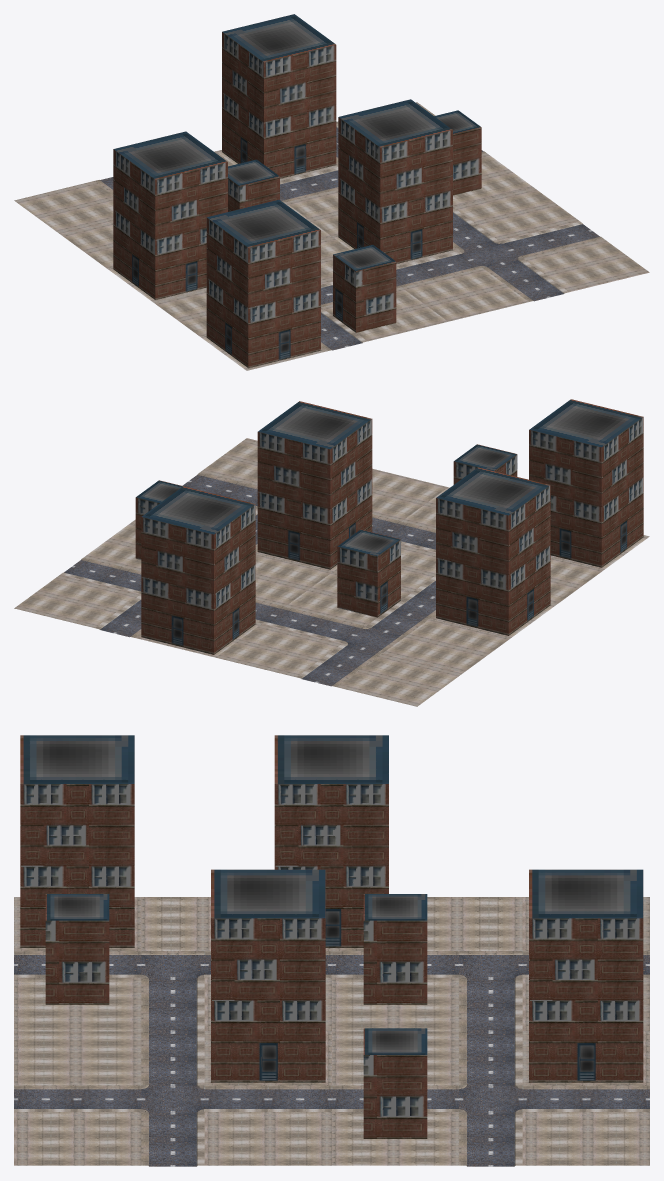
The model's file is StreetTile.002.fbx.
3 views of the same model, one above another, from view 1: azimuth 30°, elevation 25°; view 2: azimuth 150°, elevation 25°; view 3: azimuth 270°, elevation 25° (orthographic). The views are drawn at different scales.
Parts seen in each view (by area): view 1: Center.002, Outside.002, StraightRoad.002, CrossRoads.002; view 2: Center.002, Outside.002, StraightRoad.002, CrossRoads.002; view 3: Center.002, Outside.002, StraightRoad.002, CrossRoads.002.
Part boxes in pixels (x1,y1,x2,y2): Center.002: (14, 14, 649, 370); Outside.002: (228, 99, 458, 284); StraightRoad.002: (95, 122, 602, 351); CrossRoads.002: (459, 241, 522, 267); Center.002: (14, 399, 649, 706); Outside.002: (255, 401, 435, 625); StraightRoad.002: (61, 472, 435, 686); CrossRoads.002: (343, 626, 405, 652); Center.002: (14, 735, 649, 1165); Outside.002: (204, 869, 458, 1085); StraightRoad.002: (14, 951, 649, 1166); CrossRoads.002: (141, 951, 522, 1112).
Bounding box in the file's own units: 8000 × 2291 × 8002.
